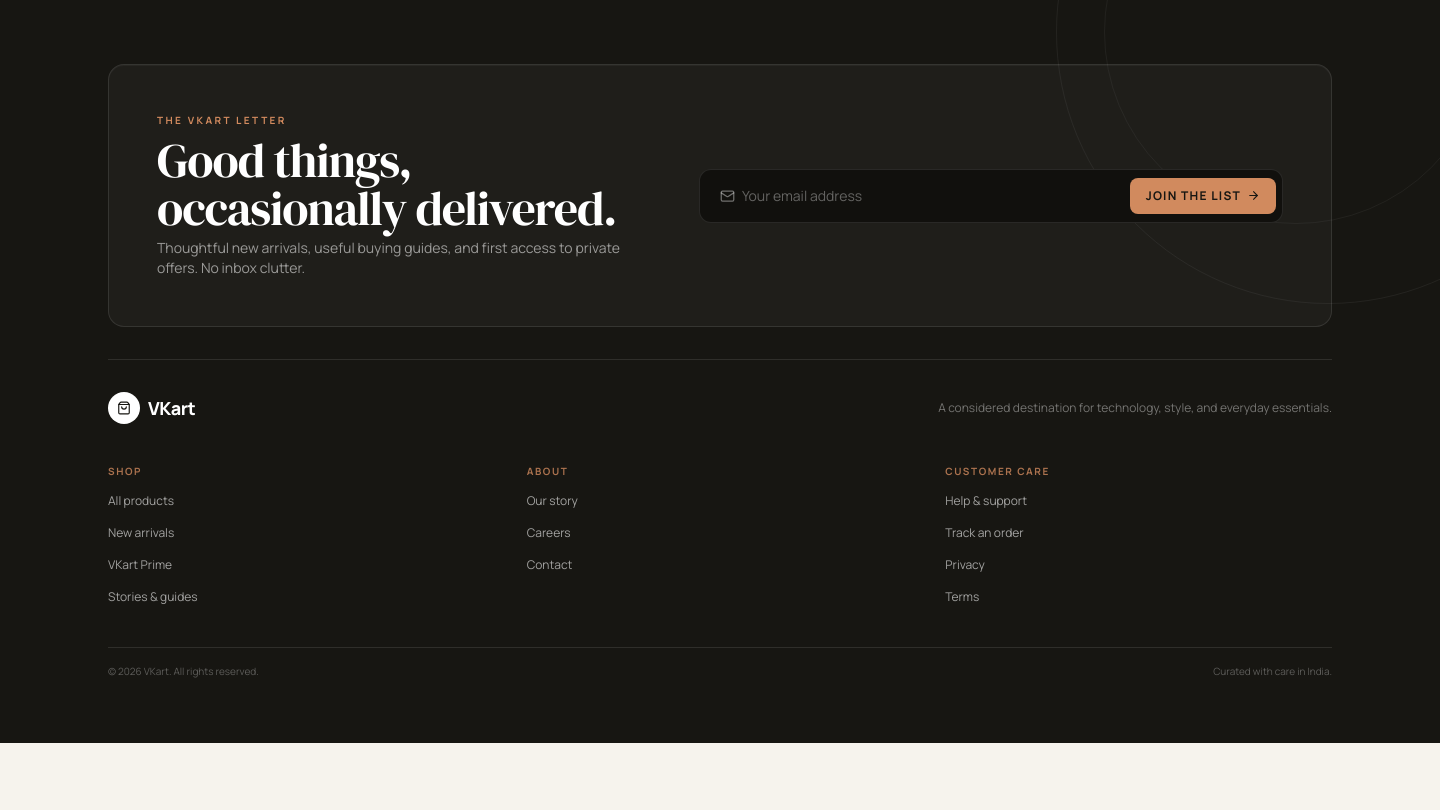
it: Footer Component › shows an error message when the subscription request fails
Step 1. Type "reader@example.com" into the field with placeholder "Your email address" → (918, 196), box [706,176,1130,216]
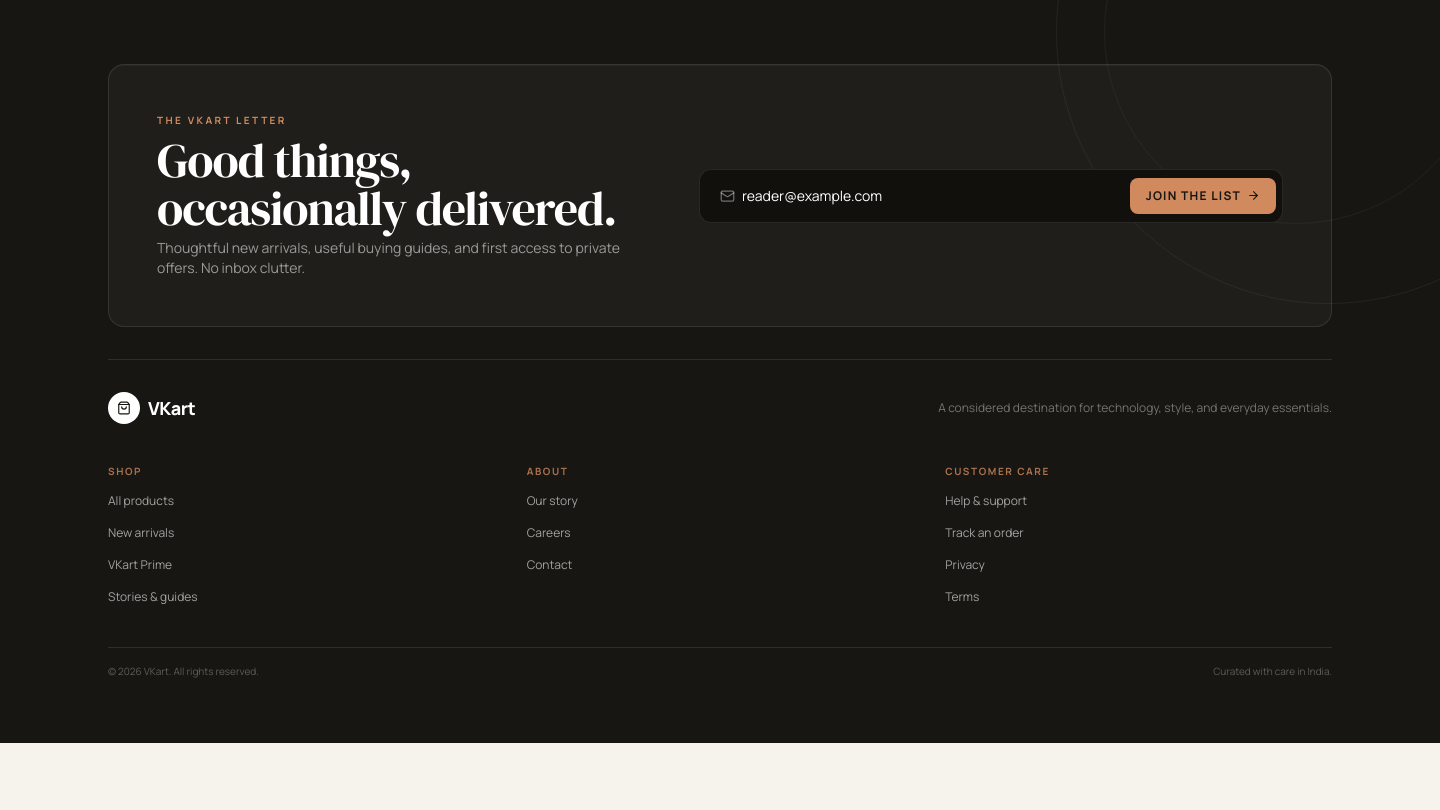
Step 2. Click the button "Join the list" → (1203, 196), box [1130,178,1276,214]
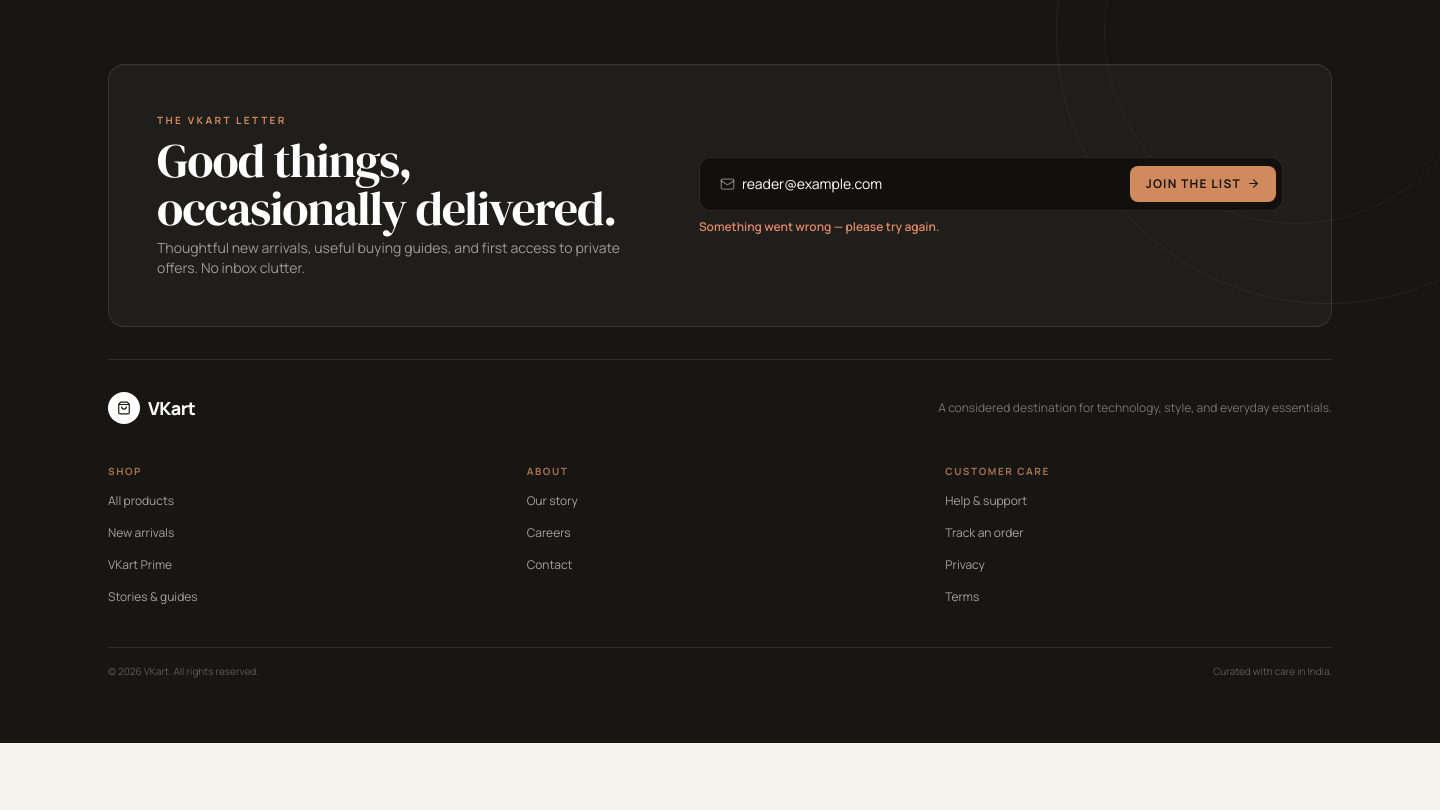
Now the text "Something went wrong — please try again." is shown, box [699,218,939,234]
